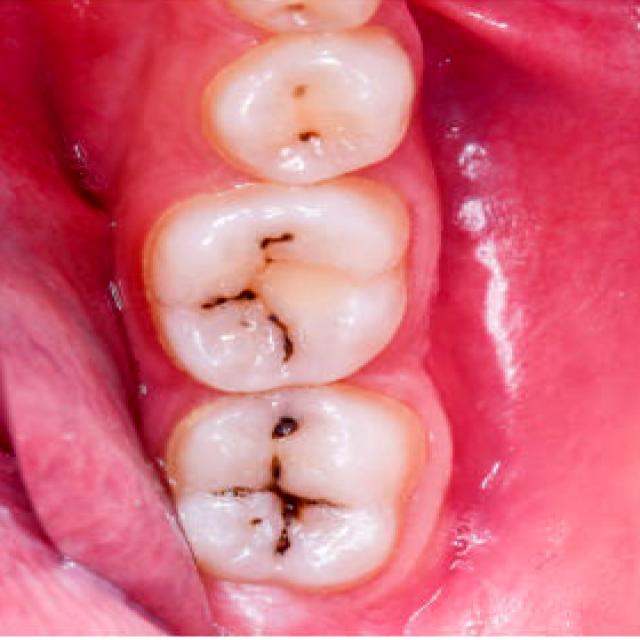cariess: (217, 404, 325, 555), (263, 301, 293, 360), (203, 287, 258, 309), (263, 234, 290, 250)
